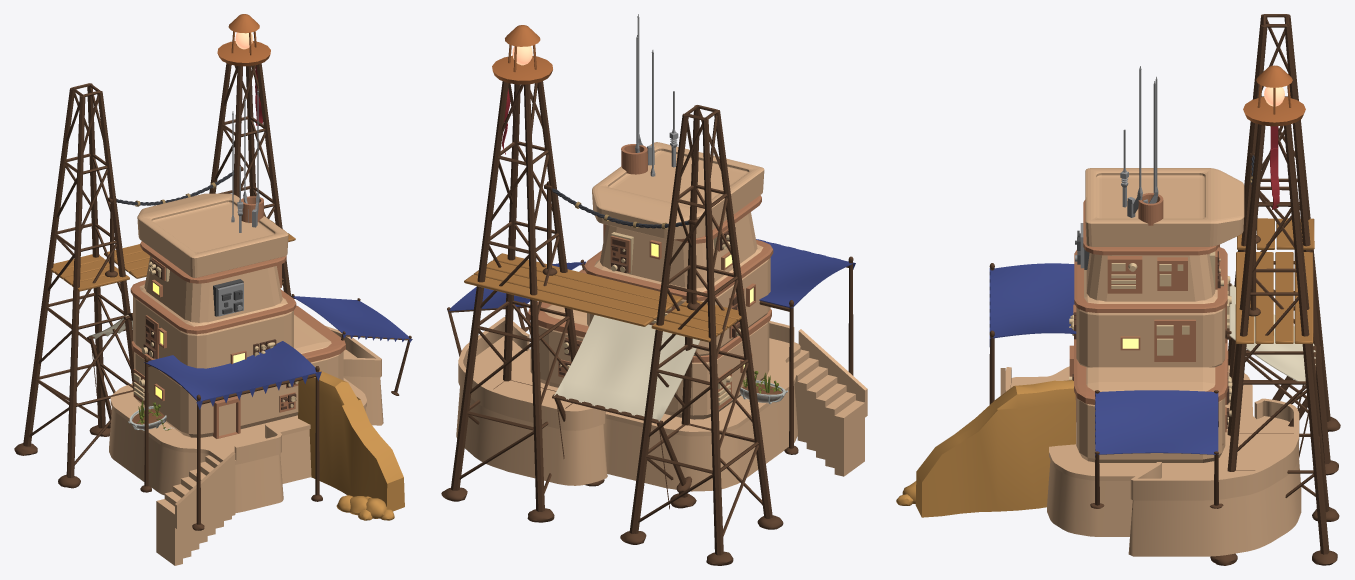
File: nomad_building_b24.fbx
3 renders of one model, left to right at view 1: azimuth 30°, elevation 25°; view 2: azimuth 150°, elevation 25°; view 3: azimuth 270°, elevation 25°, orthographic. The views are drawn at different scales.
Visible parts, largest first — view 1: NomadBuilding_B24; view 2: NomadBuilding_B24; view 3: NomadBuilding_B24.
Part boxes in pixels (box(x1,y1,x2,y2)): NomadBuilding_B24: box(14, 14, 412, 565); NomadBuilding_B24: box(441, 14, 867, 565); NomadBuilding_B24: box(896, 14, 1340, 565).
Size of the model in its own units: 2432 by 3301 by 2708.
